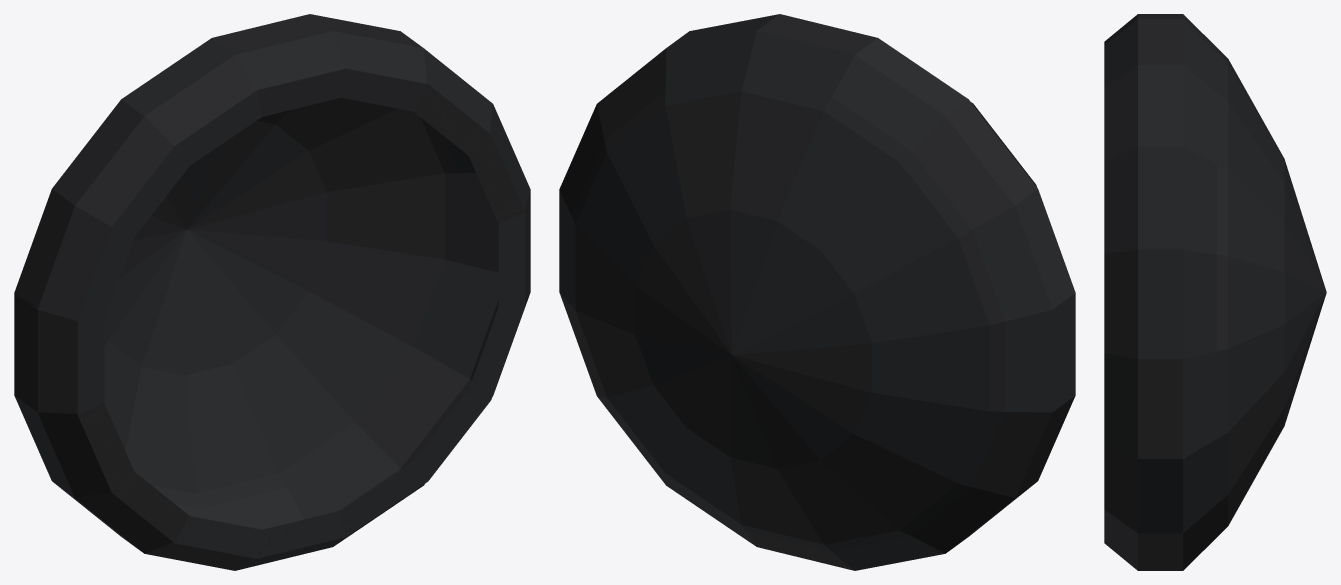
The model's file is decopole_laconcrete_cap_n.obj.
3 views of the same model, side by side, from view 1: azimuth 30°, elevation 25°; view 2: azimuth 150°, elevation 25°; view 3: azimuth 270°, elevation 25° (orthographic). The views are drawn at different scales.
Visible parts, largest first — view 1: decopole_laconcrete_cap_n; view 2: decopole_laconcrete_cap_n; view 3: decopole_laconcrete_cap_n.
Part boxes in pixels (<box>): decopole_laconcrete_cap_n: <box>14,14,530,570</box>; decopole_laconcrete_cap_n: <box>559,14,1075,570</box>; decopole_laconcrete_cap_n: <box>1104,14,1326,570</box>.
Size of the model in its own units: 0.613 by 0.613 by 0.2469.
